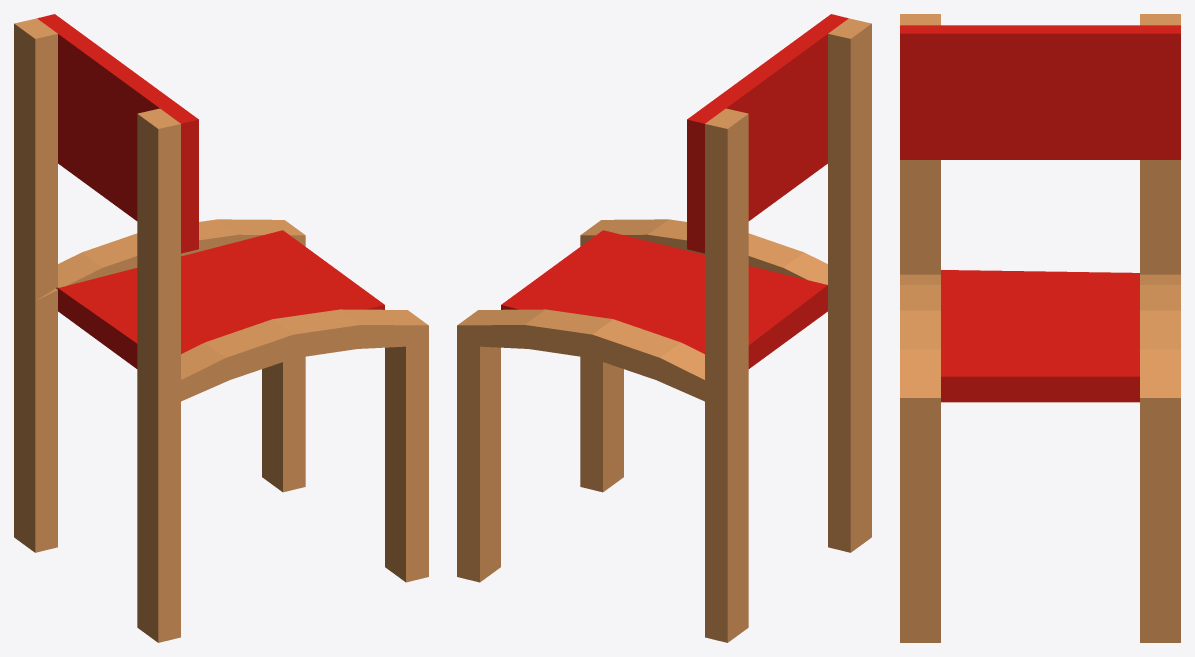
Rendered from Chair.fbx.
The picture shows the model from 3 angles, left to right: view 1: azimuth 30°, elevation 25°; view 2: azimuth 150°, elevation 25°; view 3: azimuth 270°, elevation 25°; orthographic projection. The views are drawn at different scales.
Parts seen in each view (by area): view 1: Cube.002; view 2: Cube.002; view 3: Cube.002.
Boxes of the visible parts, left/top/right/bottom form: Cube.002: left=14, top=14, right=428, bottom=642; Cube.002: left=457, top=14, right=871, bottom=642; Cube.002: left=900, top=14, right=1180, bottom=642.
Bounding box in the file's own units: 154 × 280 × 142.
